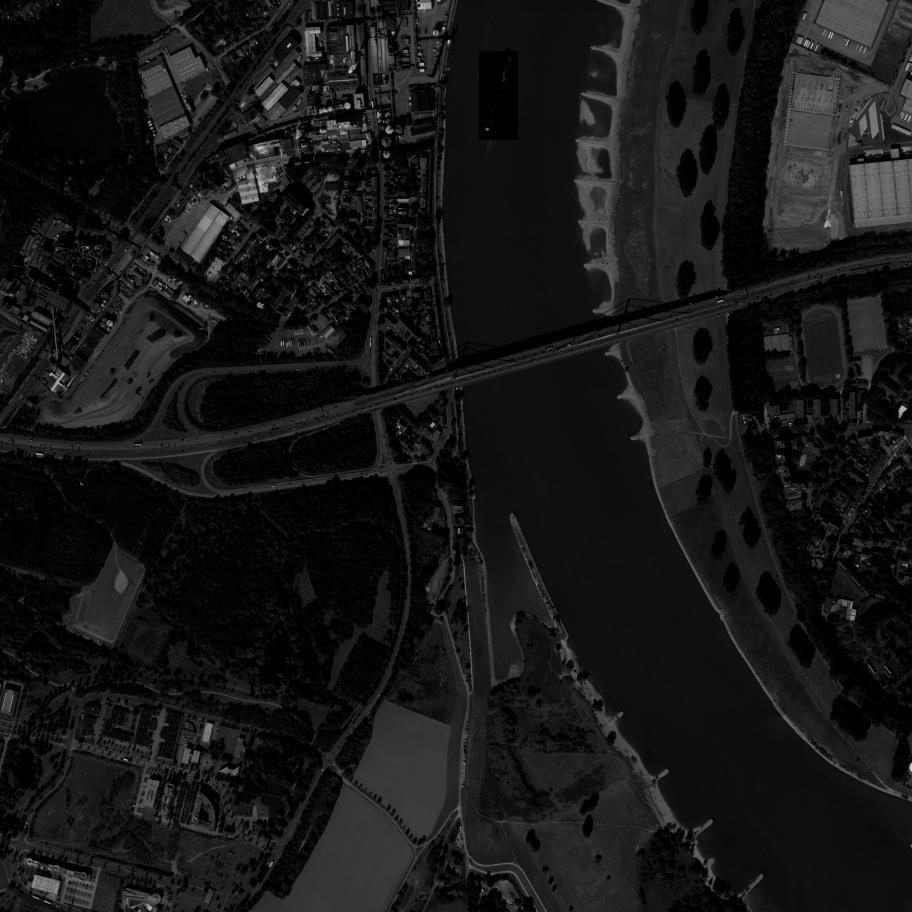ship: (479, 50, 519, 141)
storage-tank: (379, 135, 395, 150), (381, 148, 394, 161), (395, 122, 405, 136), (384, 124, 395, 136), (384, 111, 391, 118), (377, 112, 383, 119), (386, 117, 390, 123), (378, 119, 382, 124)
